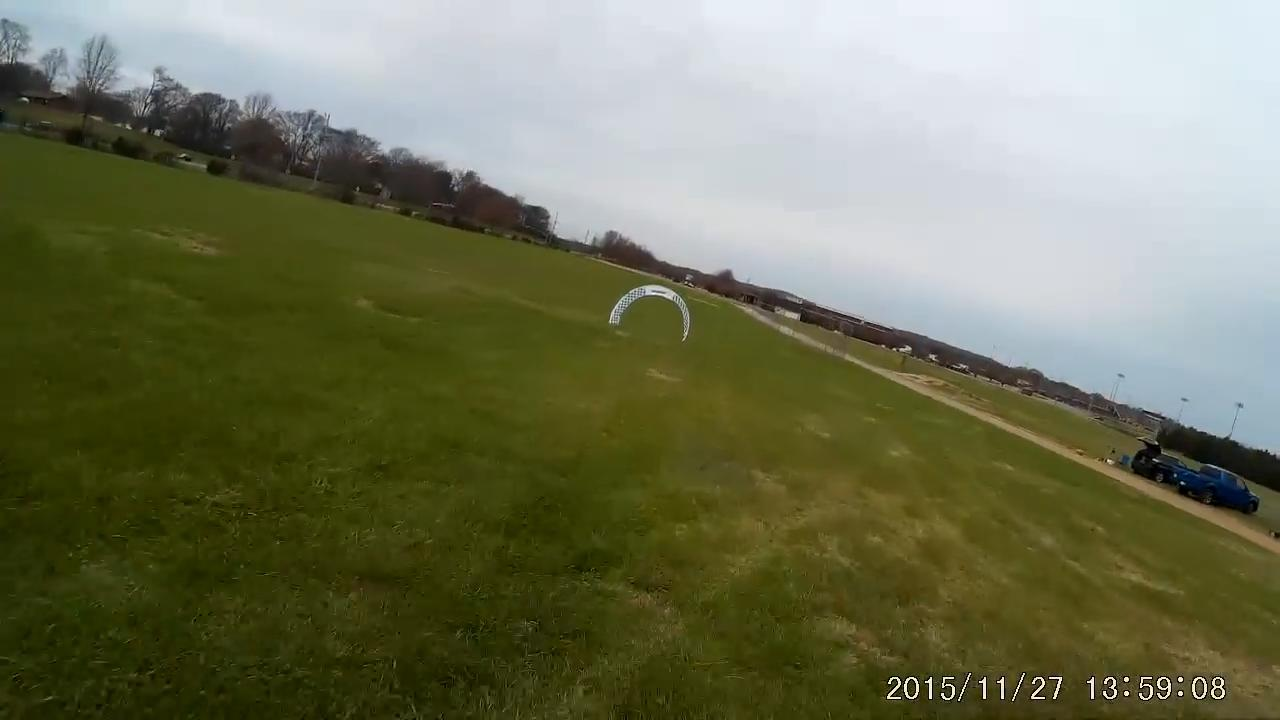gate: (606, 283, 691, 343)
